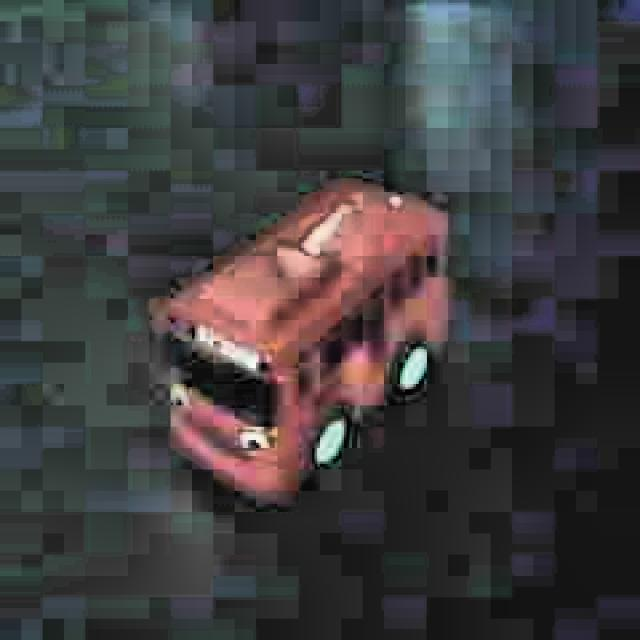bus: (158, 169, 452, 496)
